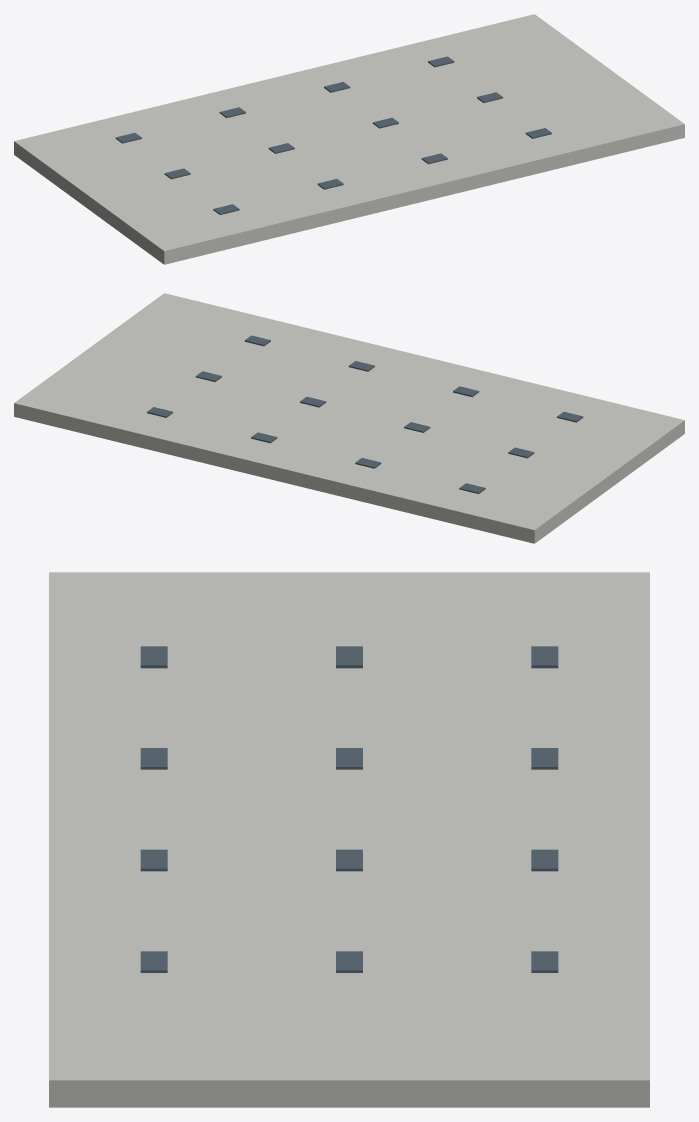
The model's file is runoff-gravel-strip-97b47515.glb.
The picture shows the model from 3 angles, top to bottom: view 1: azimuth 30°, elevation 25°; view 2: azimuth 150°, elevation 25°; view 3: azimuth 270°, elevation 25°; orthographic projection. The views are drawn at different scales.
Parts seen in each view (by area): view 1: runoff-gravel-strip; view 2: runoff-gravel-strip; view 3: runoff-gravel-strip.
Boxes of the visible parts, x1,y1,x2,y2 form: runoff-gravel-strip: (14,14,684,264); runoff-gravel-strip: (14,293,684,543); runoff-gravel-strip: (49,572,649,1107).
Size of the model in its own units: 4 by 0.11 by 2.
